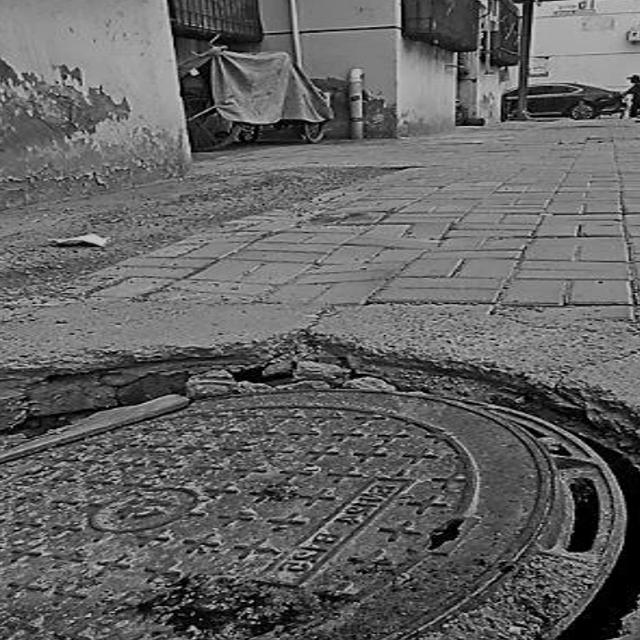circle: (0, 304, 640, 640)
